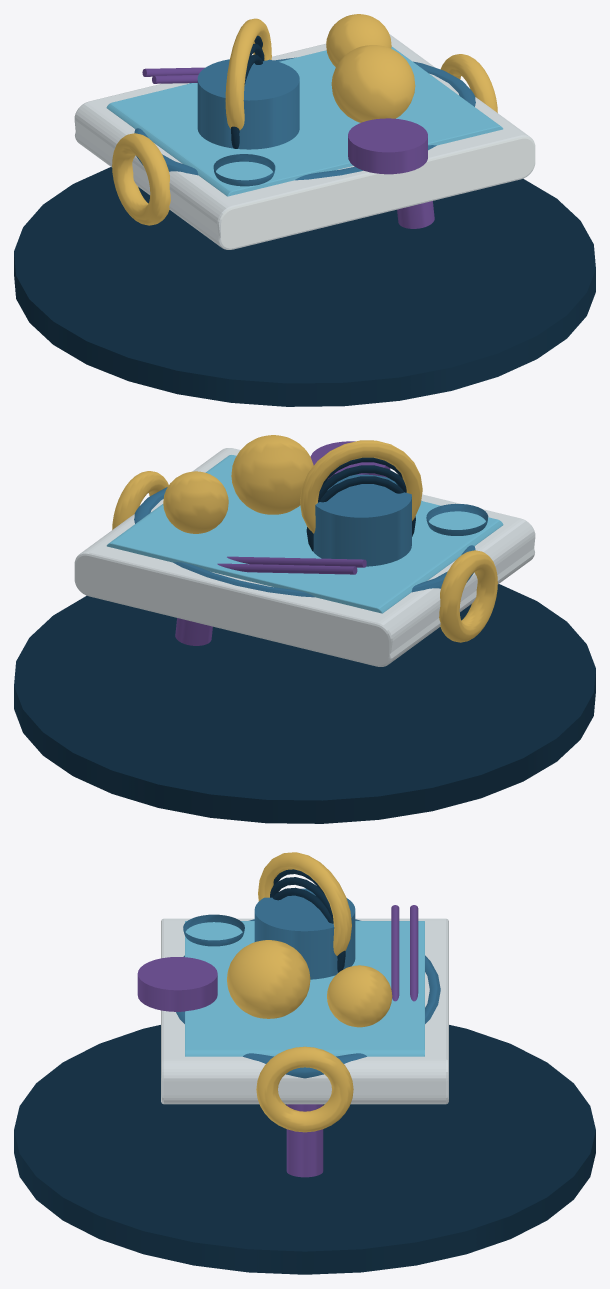
Rendered from 0605_考古图鉴_冰人奥兹.glb.
3 renders of one model, top to bottom at view 1: azimuth 30°, elevation 25°; view 2: azimuth 150°, elevation 25°; view 3: azimuth 270°, elevation 25°, orthographic.
Visible parts, largest first — view 1: card_0605; view 2: card_0605; view 3: card_0605.
Part boxes in pixels (left/top/right/bottom): card_0605: left=14, top=14, right=595, bottom=406; card_0605: left=14, top=435, right=595, bottom=823; card_0605: left=14, top=852, right=595, bottom=1274.
Bounding box in the file's own units: 1.93 × 1 × 1.95.
